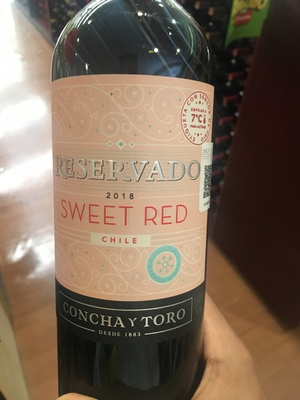reservado sweet red: (45, 13, 238, 400)
